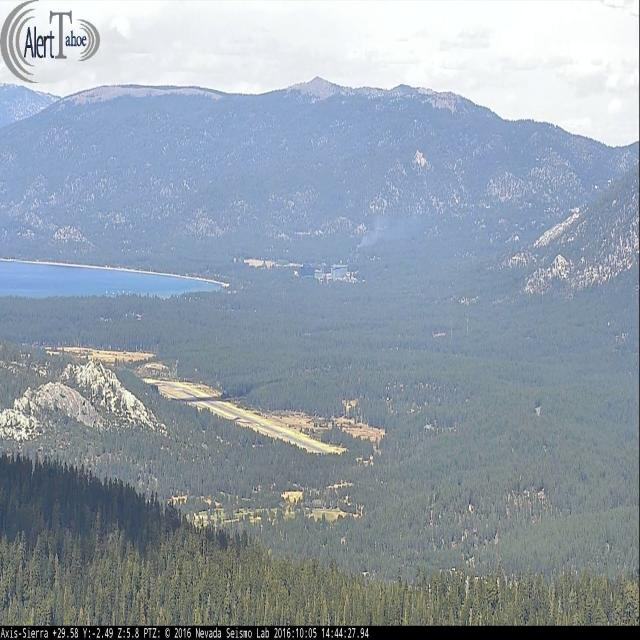smoke: (356, 220, 390, 248)
